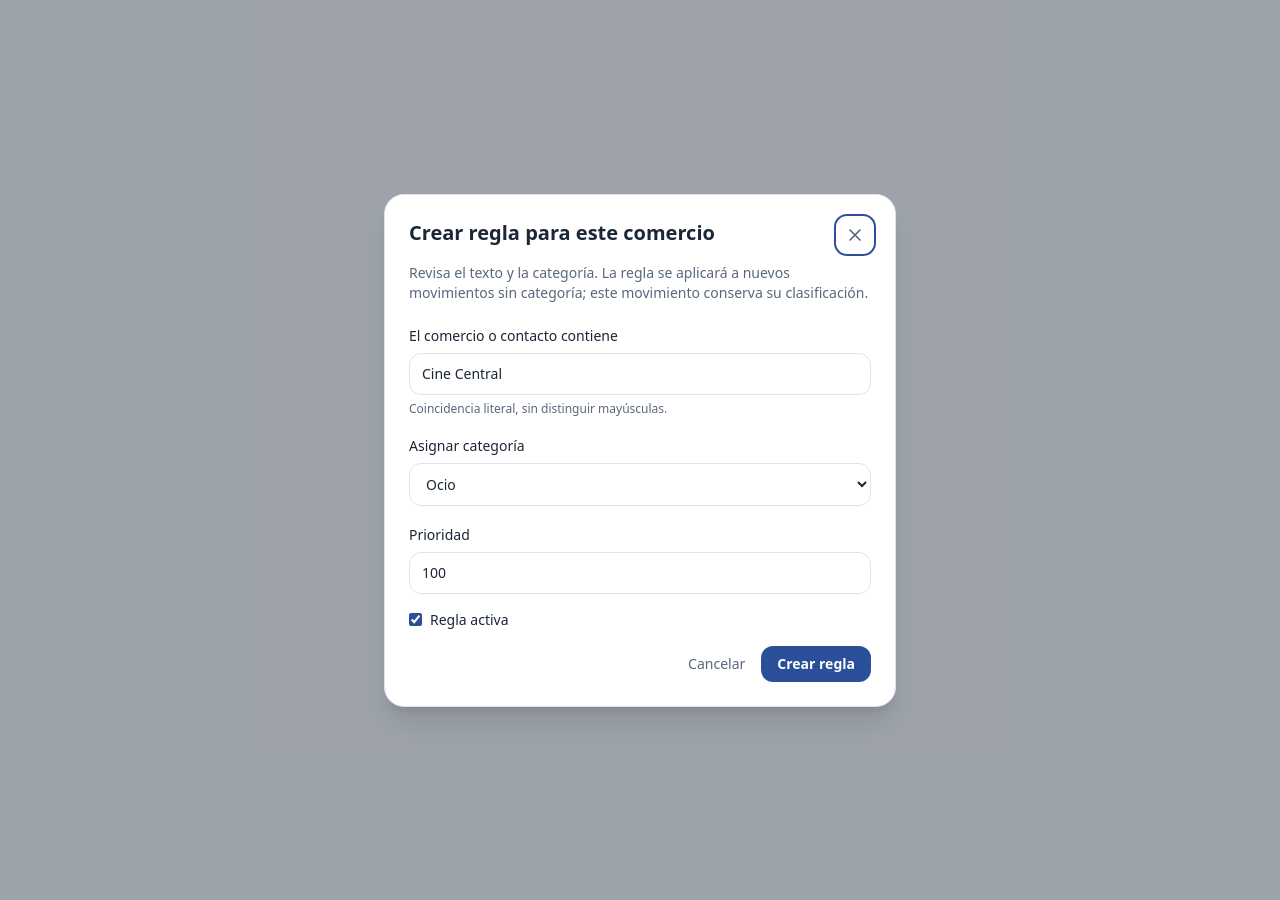
Scenario: prefills a reviewable rule and saves only after explicit submission
Expected: the dropdown labelled "Asignar categoría" shows "Ocio", [409,462,871,506]
Replace the text in the field labelled "El comercio o contacto contiene" with " CINE ". click: (640, 374)
box: [409,352,871,394]
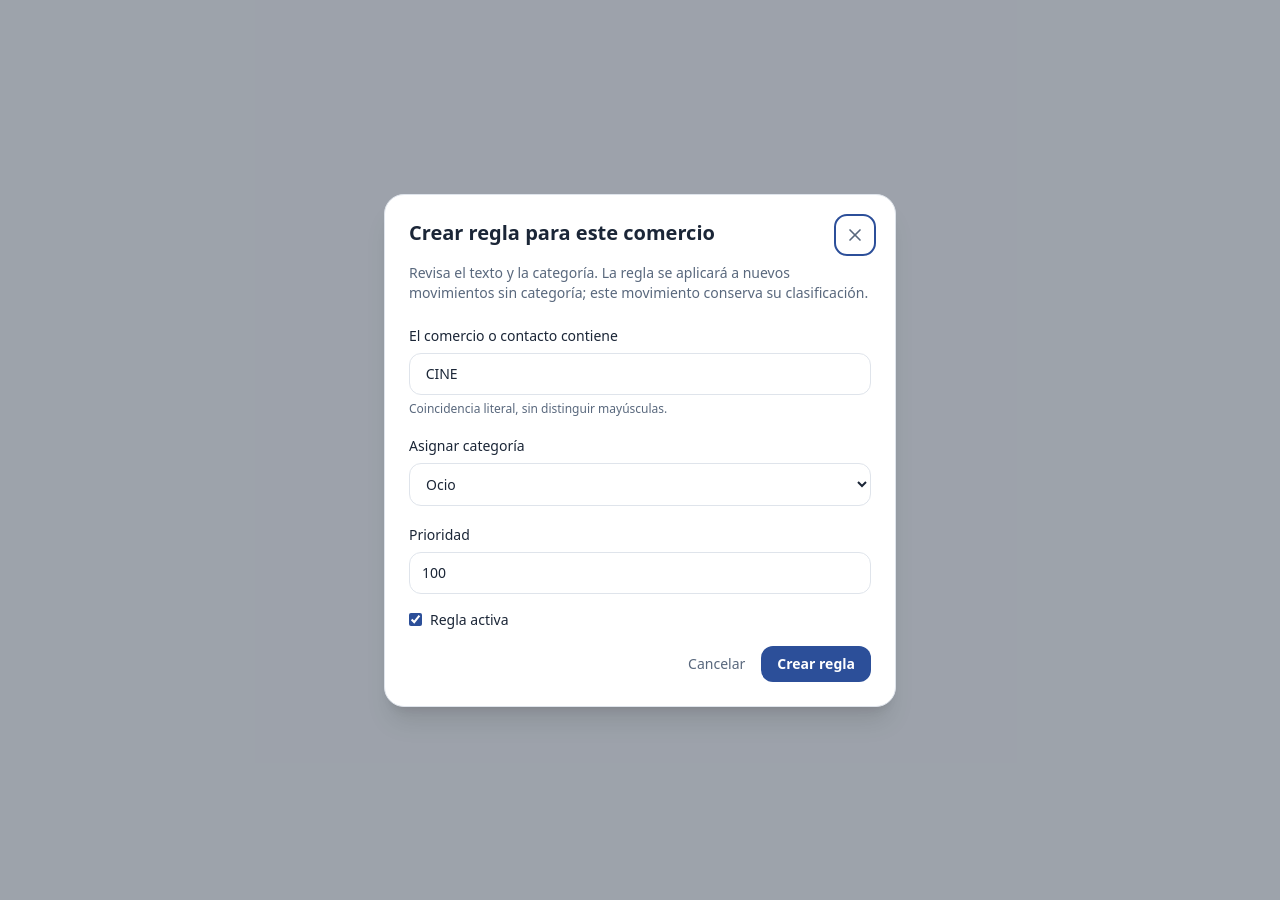
Replace the text in the number field labelled "Prioridad" with "10". click: (640, 572)
box: [409,552,871,594]
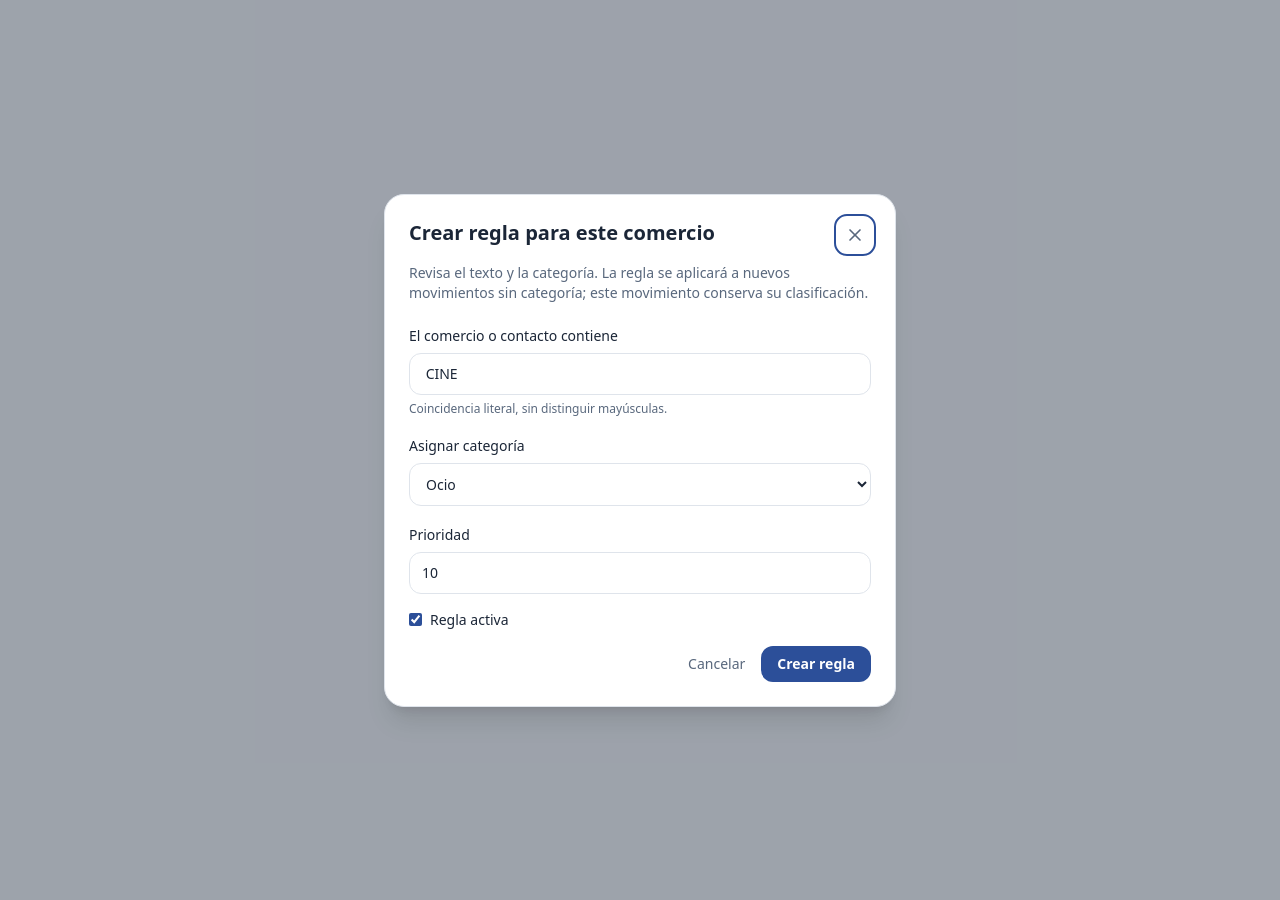
Click the button "Crear regla". click: (816, 664)
box: [761,646,871,682]
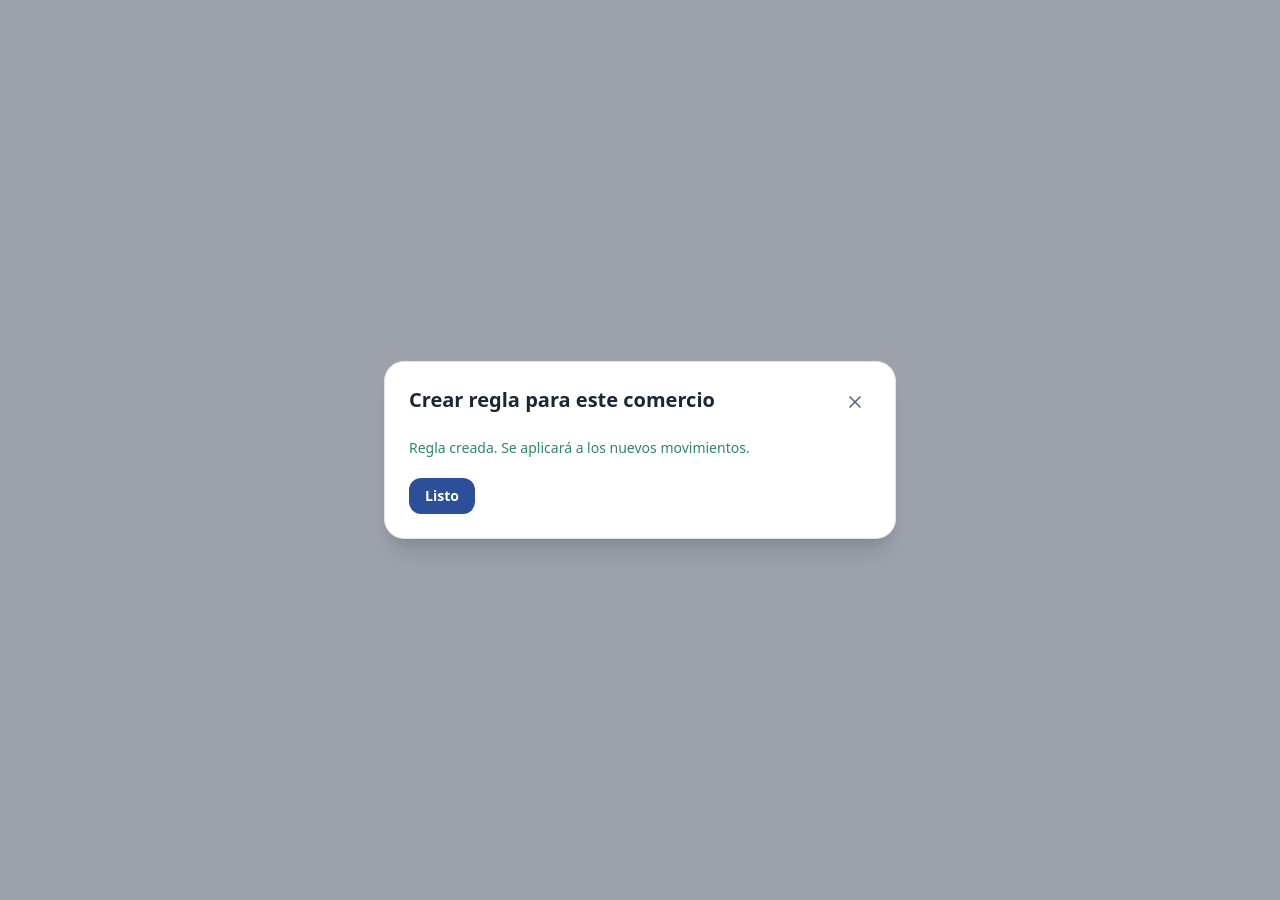
Expected: the message reads "Regla creada. Se aplicará a los nuevos movimientos.", [409,438,750,457]
